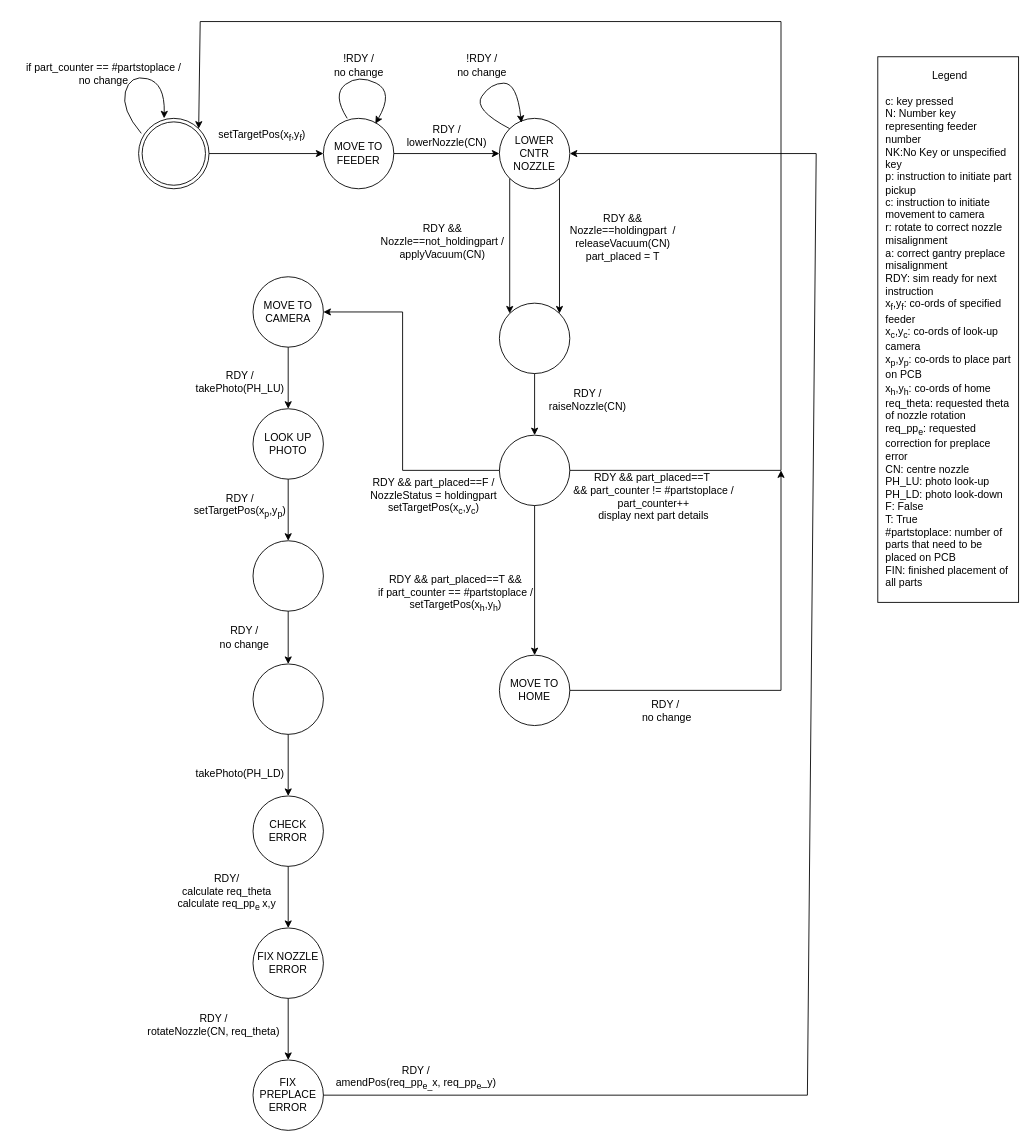
Some shapes in this 1034 by 1146 pixel diagram are drawn without their labels. The centre of each missing label's shape, as x and y in pixels:
"HOME" goes at [173,153].
"LOOK DOWN PHOTO" goes at [287,698].
"MOVE TO PCB" goes at [287,575].
"RAISE CNTR NOZZLE" goes at [534,470].
"VAC CNTR NOZZLE" goes at [534,338].
